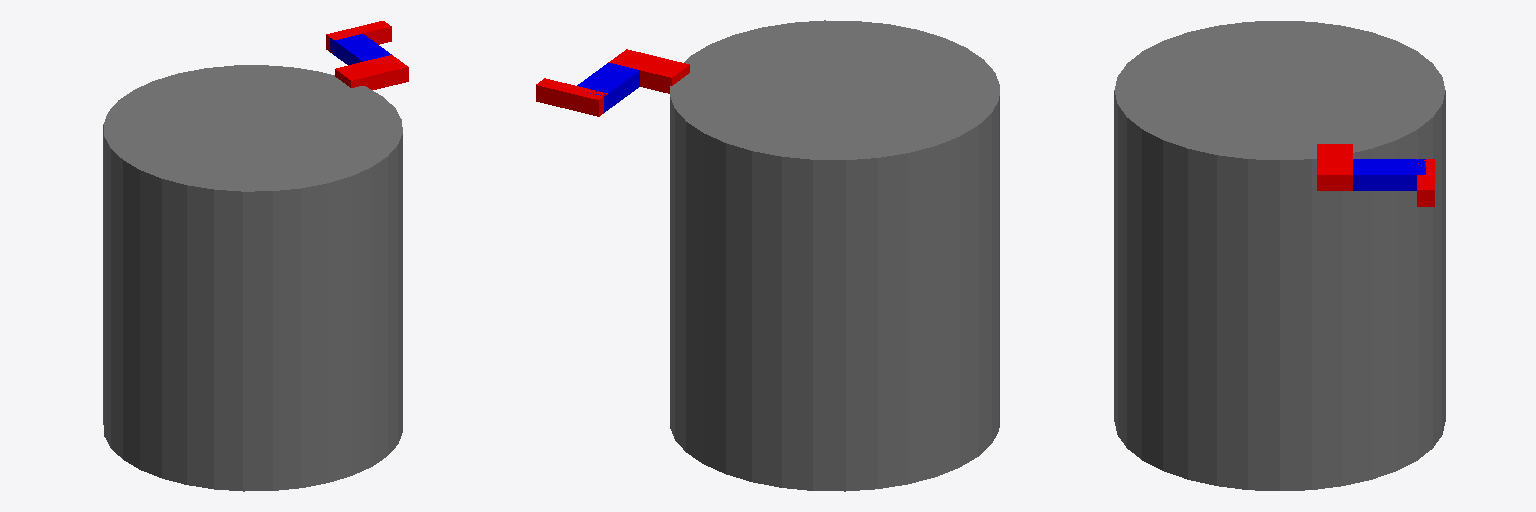
URDF robot description (generated_robot):
<?xml version="1.0"?>
<robot name="generated_robot">
  <mujoco >
    <compiler discardvisual="false"/>
  </mujoco>
  <link name="world"/>
  <joint name="world_to_body" type="fixed">
    <parent link="world"/>
    <child link="body"/>
    <origin xyz="0 0 1.0" rpy="0 0 0"/>
  </joint>
  <link name="body">
    <visual >
      <origin xyz="0 0 -0.5" rpy="0 0 0"/>
      <geometry >
        <cylinder radius="0.4535" length="1.0"/>
      </geometry>
      <material name="grey">
        <color rgba="0.5 0.5 0.5 1.0"/>
      </material>
    </visual>
    <inertial >
      <mass value="10.0"/>
      <inertia ixx="0.01" ixy="0" ixz="0" iyy="0.01" iyz="0" izz="0.01"/>
    </inertial>
  </link>
  <joint name="joint_0" type="revolute">
    <parent link="body"/>
    <child link="link_0"/>
    <origin xyz="0.4 0.1 0.0" rpy="0.0000 0.0000 0.0000"/>
    <axis xyz="0 1 0"/>
    <limit lower="-3.1416" upper="3.1416" effort="10" velocity="1"/>
  </joint>
  <link name="link_0">
    <visual >
      <origin xyz="0.1000 0.0500 0.0000" rpy="0 0 0"/>
      <geometry >
        <box size="0.2000 0.1000 0.0500"/>
      </geometry>
      <material name="mat_0">
        <color rgba="1.0 0.0 0.0 1.0"/>
      </material>
    </visual>
    <inertial >
      <mass value="1.0"/>
      <inertia ixx="0.01" ixy="0" ixz="0" iyy="0.01" iyz="0" izz="0.01"/>
    </inertial>
  </link>
  <joint name="joint_1" type="revolute">
    <parent link="link_0"/>
    <child link="link_1"/>
    <origin xyz="0.2 0.1 0.0" rpy="0.0000 0.0000 0.0000"/>
    <axis xyz="0 0 1"/>
    <limit lower="-3.1416" upper="3.1416" effort="10" velocity="1"/>
  </joint>
  <link name="link_1">
    <visual >
      <origin xyz="-0.0500 0.1000 0.0000" rpy="0 0 0"/>
      <geometry >
        <box size="0.1000 0.2000 0.0500"/>
      </geometry>
      <material name="mat_1">
        <color rgba="0.0 0.0 1.0 1.0"/>
      </material>
    </visual>
    <inertial >
      <mass value="1.0"/>
      <inertia ixx="0.01" ixy="0" ixz="0" iyy="0.01" iyz="0" izz="0.01"/>
    </inertial>
  </link>
  <joint name="joint_2" type="revolute">
    <parent link="link_1"/>
    <child link="link_2"/>
    <origin xyz="-0.1 0.2 0.0" rpy="0.0000 0.0000 0.0000"/>
    <axis xyz="1 0 0"/>
    <limit lower="-3.1416" upper="3.1416" effort="10" velocity="1"/>
  </joint>
  <link name="link_2">
    <visual >
      <origin xyz="0.1000 0.0000 0.0000" rpy="0 0 0"/>
      <geometry >
        <box size="0.2000 0.0500 0.0500"/>
      </geometry>
      <material name="mat_2">
        <color rgba="1.0 0.0 0.0 1.0"/>
      </material>
    </visual>
    <inertial >
      <mass value="1.0"/>
      <inertia ixx="0.01" ixy="0" ixz="0" iyy="0.01" iyz="0" izz="0.01"/>
    </inertial>
  </link>
  <joint name="joint_3" type="revolute">
    <parent link="link_2"/>
    <child link="link_3"/>
    <origin xyz="0.2 0.0 0.0" rpy="0.0000 0.0000 0.0000"/>
    <axis xyz="0 1 0"/>
    <limit lower="-3.1416" upper="3.1416" effort="10" velocity="1"/>
  </joint>
  <link name="link_3">
    <inertial >
      <mass value="1.0"/>
      <inertia ixx="0.01" ixy="0" ixz="0" iyy="0.01" iyz="0" izz="0.01"/>
    </inertial>
  </link>
</robot>

--- What the picture shows (computed from the rendered views, not written in the file) ---
The picture shows the robot from 3 angles, left to right: view 1: azimuth 30°, elevation 25°; view 2: azimuth 150°, elevation 25°; view 3: azimuth 270°, elevation 25°; orthographic projection.
Robot: generated_robot — 6 links, 5 joints (4 revolute, 1 fixed); root link world; default pose: every joint at zero.
Links seen in each view (by area): view 1: body, link_0, link_1, link_2; view 2: body, link_0, link_2, link_1; view 3: body, link_1, link_0, link_2.
Boxes of the visible links, x1,y1,x2,y2 form: body: [103, 65, 402, 491]; link_0: [335, 55, 408, 89]; link_1: [330, 34, 391, 64]; link_2: [326, 21, 391, 52]; body: [670, 20, 999, 491]; link_0: [608, 49, 689, 93]; link_2: [536, 78, 607, 116]; link_1: [577, 63, 639, 112]; body: [1114, 21, 1445, 490]; link_1: [1353, 159, 1425, 190]; link_0: [1317, 144, 1352, 190]; link_2: [1417, 159, 1434, 206].
Bounding box of the posed robot: 1.15 × 0.907 × 1.02 m (x, y, z).
Geometry: primitives only (box / cylinder / sphere), no mesh files.
